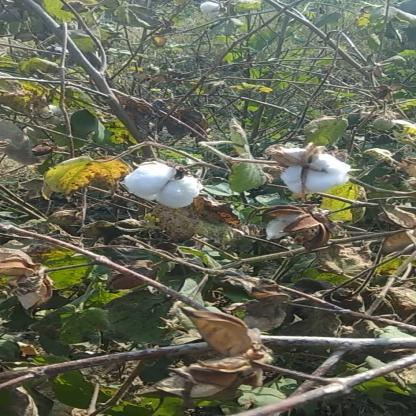cotton_ready: (266, 143, 356, 204), (130, 154, 212, 212)
